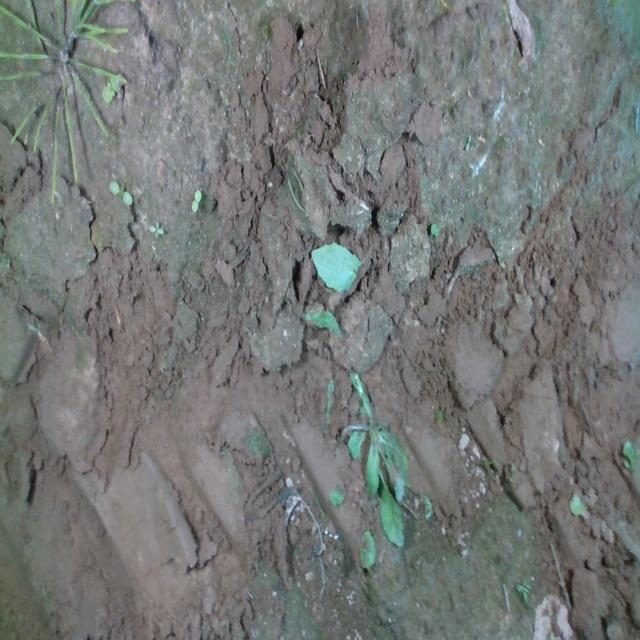weed: (180, 182, 204, 220), (106, 180, 134, 210), (144, 218, 162, 235)
